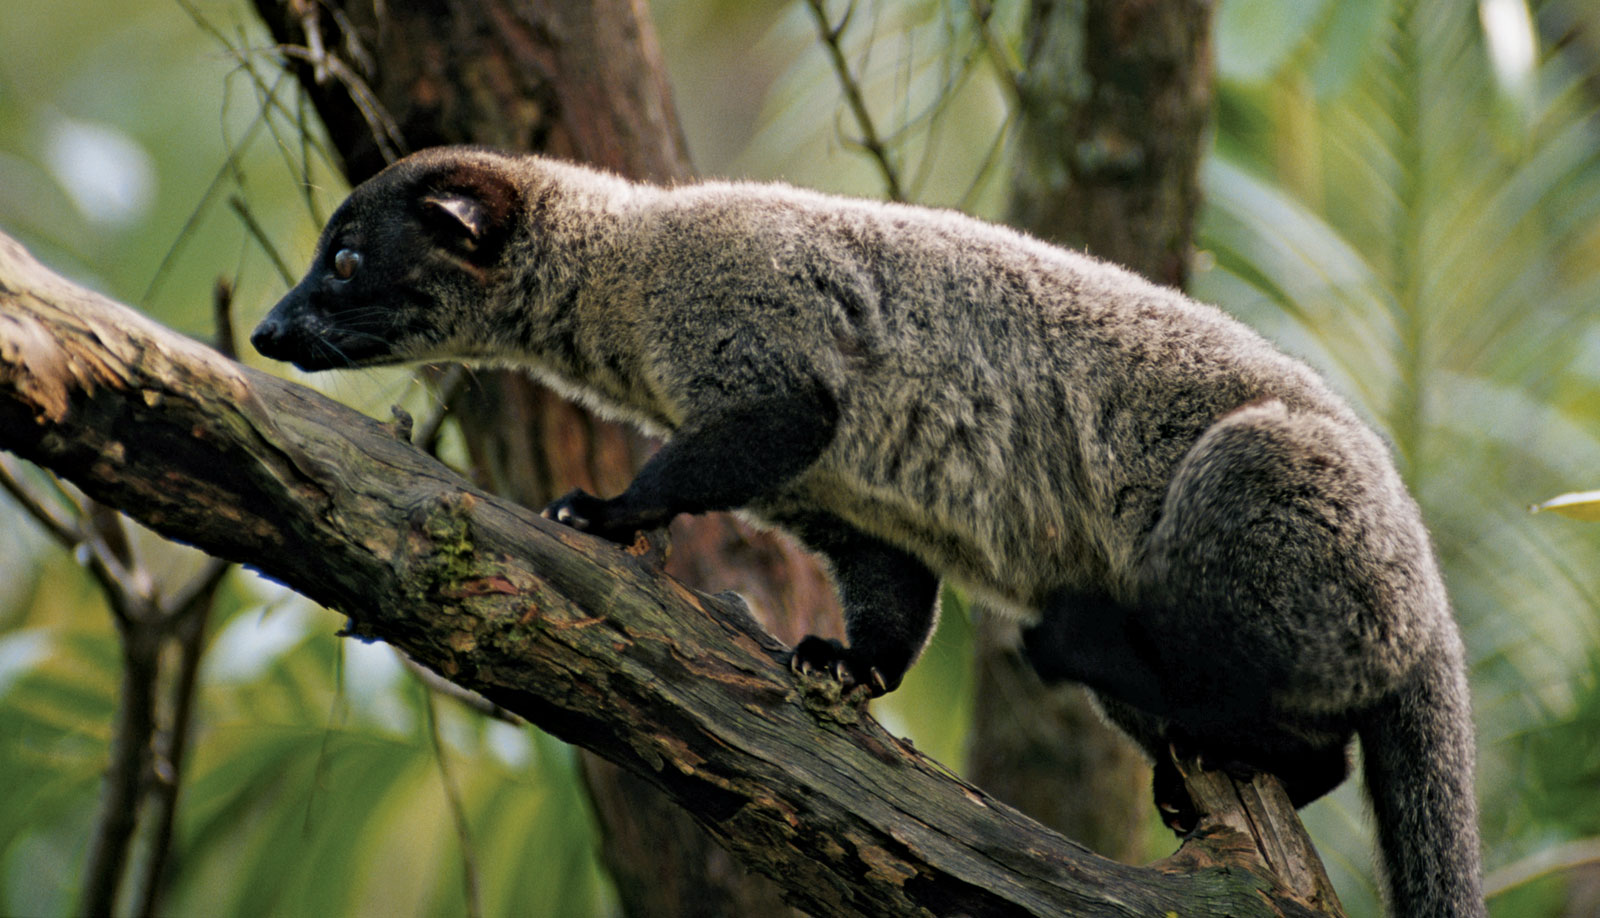Civet: (238, 112, 1548, 848)
